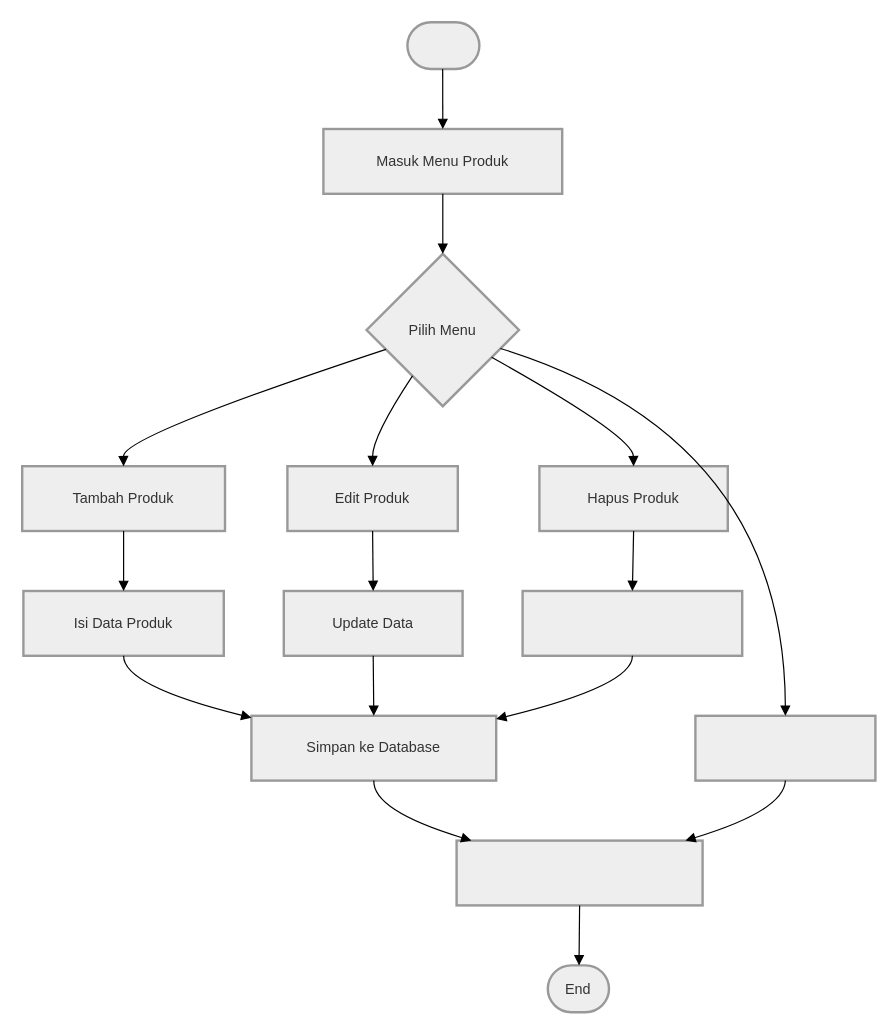
Some shapes in this 896 by 1033 pixel diagram are drawn without their labels. The box of each missing label's shape, as (x1, y1, x2, y2) in pixels:
Konfirmasi Hapus: (521, 589, 743, 656)
Lihat Produk: (694, 714, 876, 781)
Refresh Data Produk: (455, 839, 703, 906)
Start: (406, 20, 480, 70)
